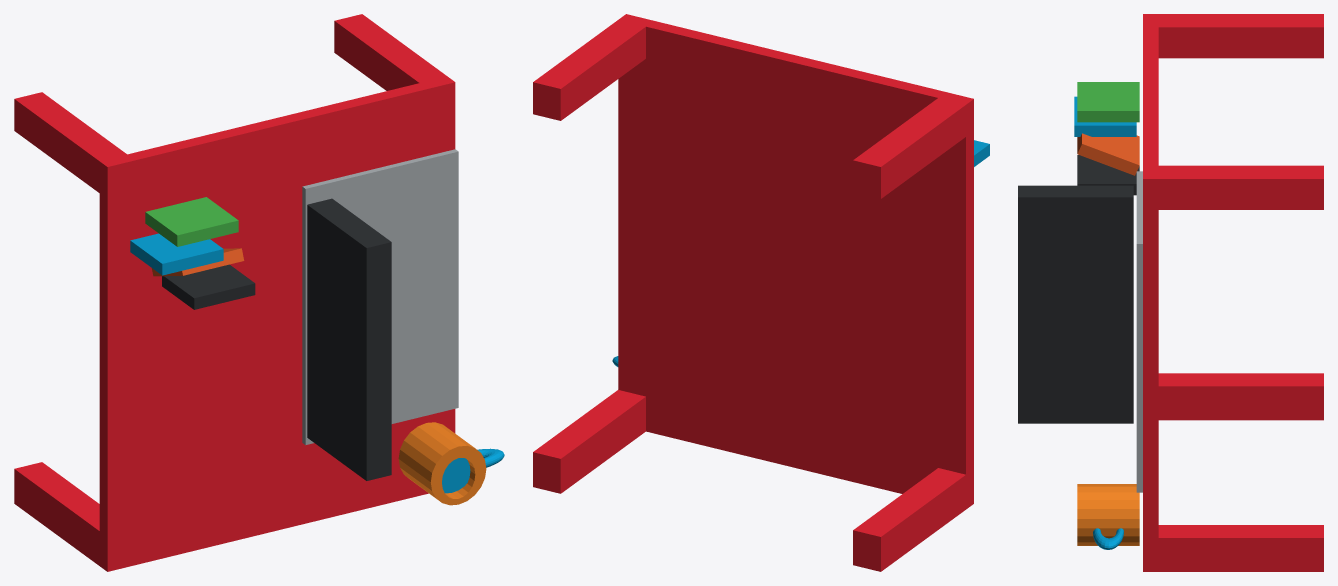
The model's file is tinker.obj.
3 renders of one model, left to right at view 1: azimuth 30°, elevation 25°; view 2: azimuth 150°, elevation 25°; view 3: azimuth 270°, elevation 25°, orthographic. The views are drawn at different scales.
Visible parts, largest first — view 1: group_0_15277357, group_0_2829873, group_0_10988977, group_0_16089887, group_0_40919, group_0_4634441, group_0_14900002; view 2: group_0_15277357; view 3: group_0_15277357, group_0_2829873, group_0_16089887, group_0_4634441, group_0_10988977, group_0_14900002, group_0_40919.
Boxes of the visible parts, <box> form: group_0_15277357: <box>14,14,455,571</box>; group_0_2829873: <box>162,198,391,480</box>; group_0_10988977: <box>302,149,458,445</box>; group_0_16089887: <box>398,422,486,505</box>; group_0_40919: <box>130,233,504,493</box>; group_0_4634441: <box>145,197,238,246</box>; group_0_14900002: <box>151,248,244,276</box>; group_0_15277357: <box>533,14,973,571</box>; group_0_15277357: <box>1143,14,1323,571</box>; group_0_2829873: <box>1018,155,1139,423</box>; group_0_16089887: <box>1077,484,1139,545</box>; group_0_4634441: <box>1077,82,1139,122</box>; group_0_10988977: <box>1136,171,1142,492</box>; group_0_14900002: <box>1077,133,1139,175</box>; group_0_40919: <box>1074,96,1136,549</box>.
Bounding box in the file's own units: 136 × 139 × 98.
